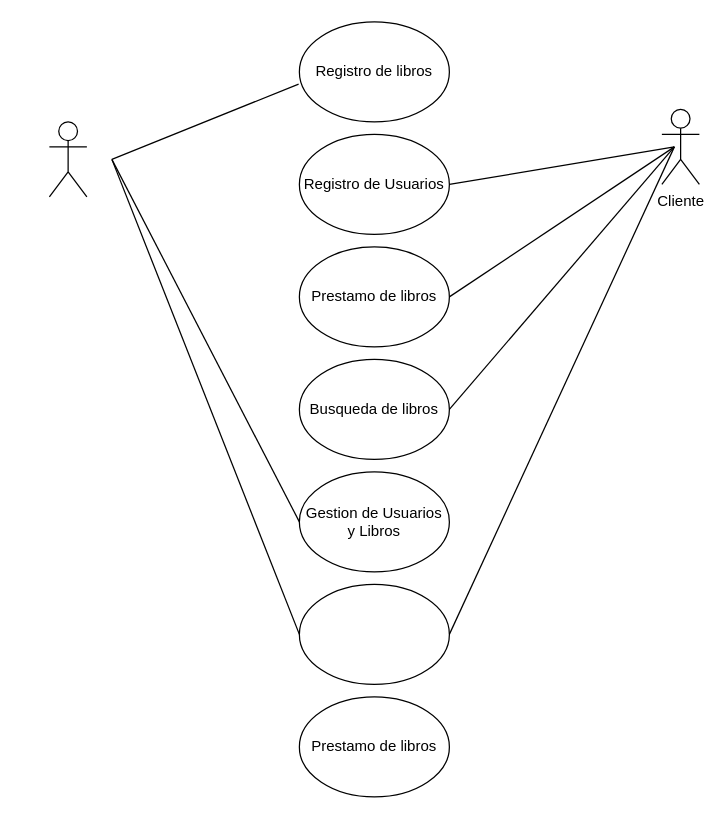
The diagram is 725 pixels wide and 819 high, and some of its shapes have lost their labels. The centre of each missing label's shape, as x and y in pixels:
Administrador: point 67,159
Historial de transacciones: point 373,633
